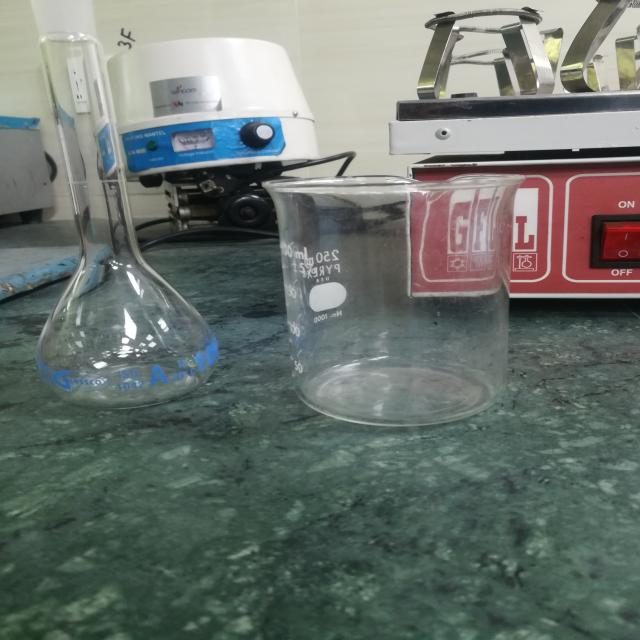Beaker: (250, 152, 559, 438)
Volumetric_Flask: (11, 0, 237, 413)
